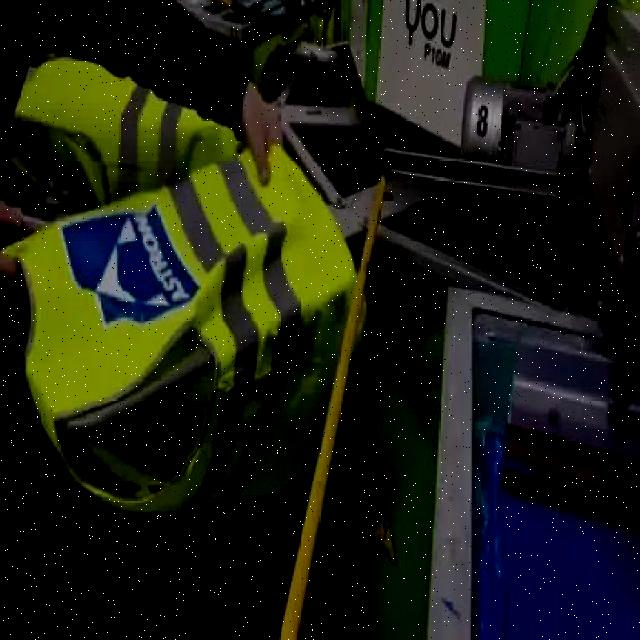Mask: (2, 138, 368, 524), (5, 54, 236, 204)
